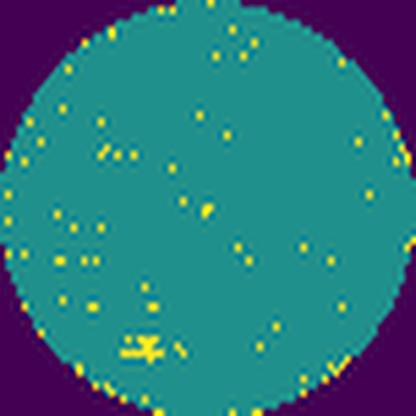Loc: (121, 332, 167, 365)
